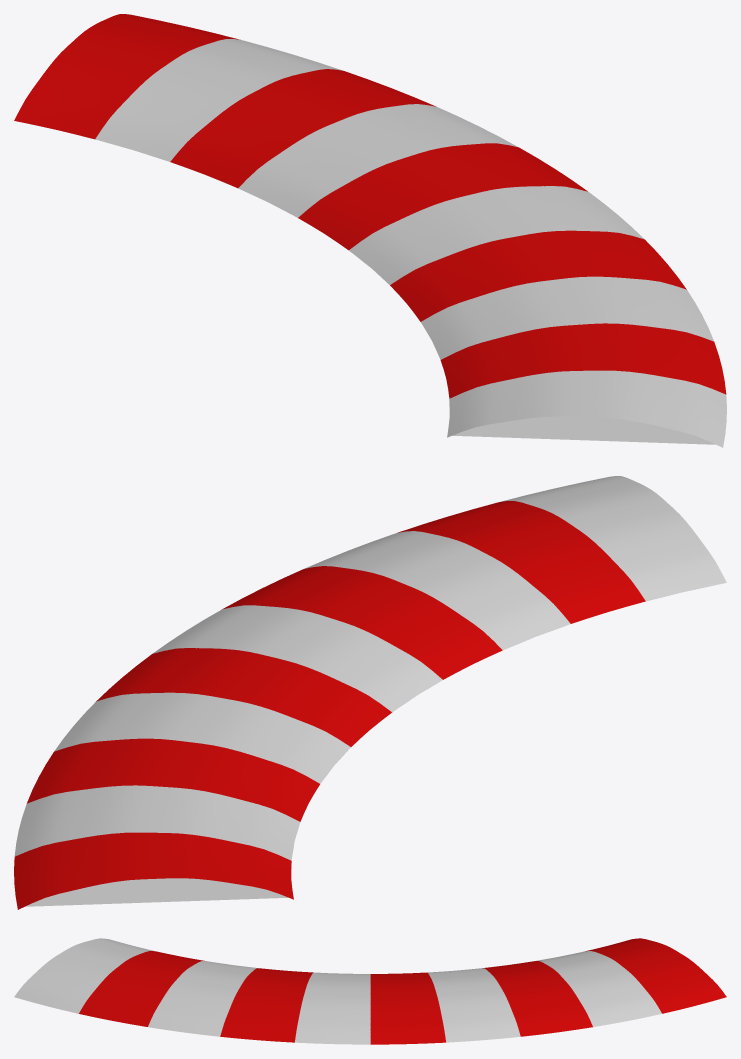
The model's file is left_curb.dae.
3 views of the same model, one above another, from view 1: azimuth 30°, elevation 25°; view 2: azimuth 150°, elevation 25°; view 3: azimuth 270°, elevation 25° (orthographic). The views are drawn at different scales.
Visible parts, largest first — view 1: pPlane1, pPlane4, pPlane2; view 2: pPlane4, pPlane1, pPlane3; view 3: pPlane1, pPlane4.
Boxes of the visible parts, x1=… form: pPlane1: x1=349, y1=186, x2=726, y2=447; pPlane4: x1=14, y1=14, x2=587, y2=250; pPlane2: x1=356, y1=256, x2=715, y2=444; pPlane4: x1=14, y1=648, x2=391, y2=909; pPlane1: x1=153, y1=476, x2=726, y2=712; pPlane3: x1=25, y1=718, x2=384, y2=906; pPlane1: x1=14, y1=938, x2=370, y2=1044; pPlane4: x1=370, y1=938, x2=726, y2=1044.
Size of the model in its own units: 1.5 by 0.104 by 4.29.
